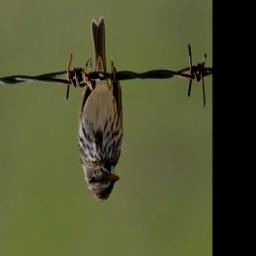Sparrow: (75, 19, 125, 204)
